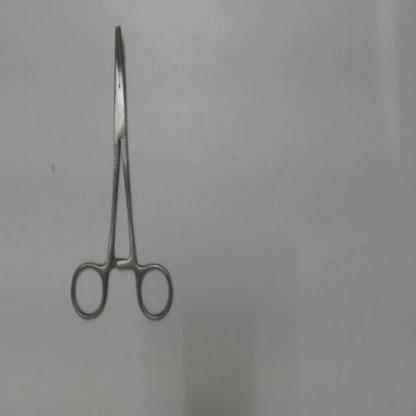Crile Artery Forceps: (66, 19, 180, 325)
